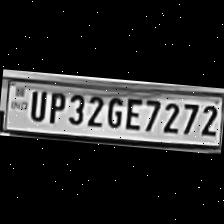2: (158, 99, 182, 136), (84, 90, 106, 128), (196, 102, 219, 138)
3: (64, 90, 86, 126)
7: (178, 100, 200, 135), (140, 98, 160, 134)
E: (121, 94, 143, 132)
G: (102, 93, 124, 129)
P: (44, 88, 66, 124)
U: (26, 86, 48, 122)
